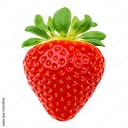strawberry: (21, 11, 106, 122)
